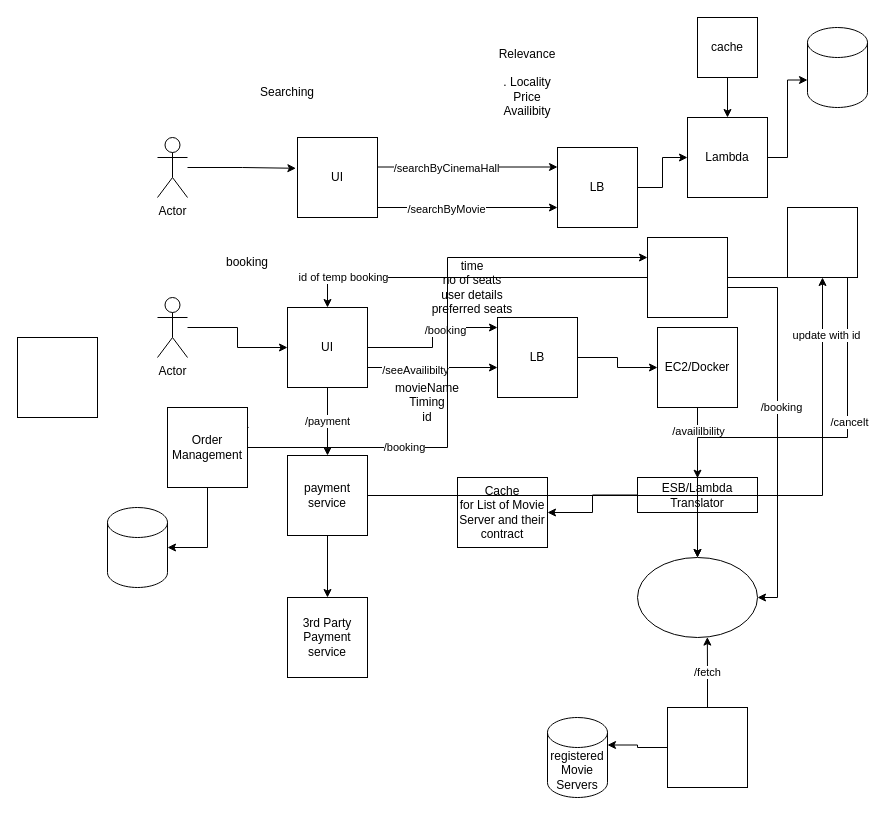
The diagram is 885 pixels wide and 815 high, and some of its shapes have lost their labels. Here are the shapes that lost their labels. From the top down, the box of each, then its label:
(806, 26, 868, 108): MongoDB
(786, 206, 858, 278): memcache store the current bookings
(646, 236, 728, 318): Booking Service EC2/Docker
(16, 336, 98, 418): User Management
(106, 506, 168, 588): DB OLTP
(636, 556, 758, 638): movie Server
(666, 706, 748, 788): Service
